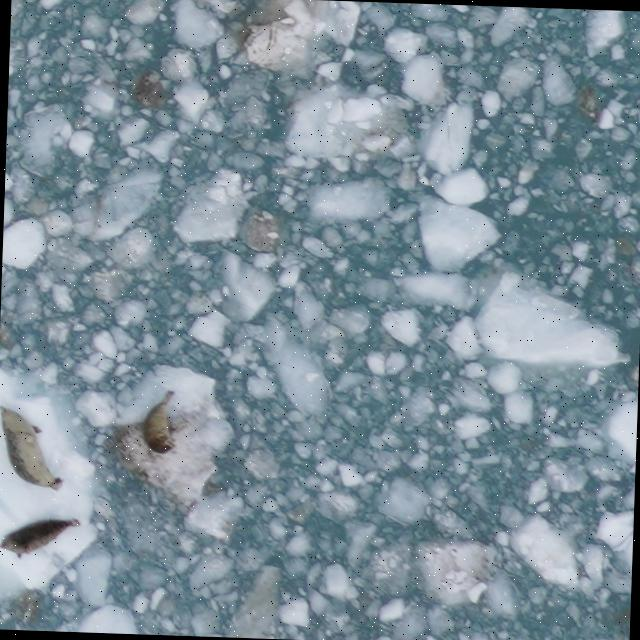seal: (0, 403, 69, 493), (0, 514, 83, 563), (136, 385, 179, 457)
